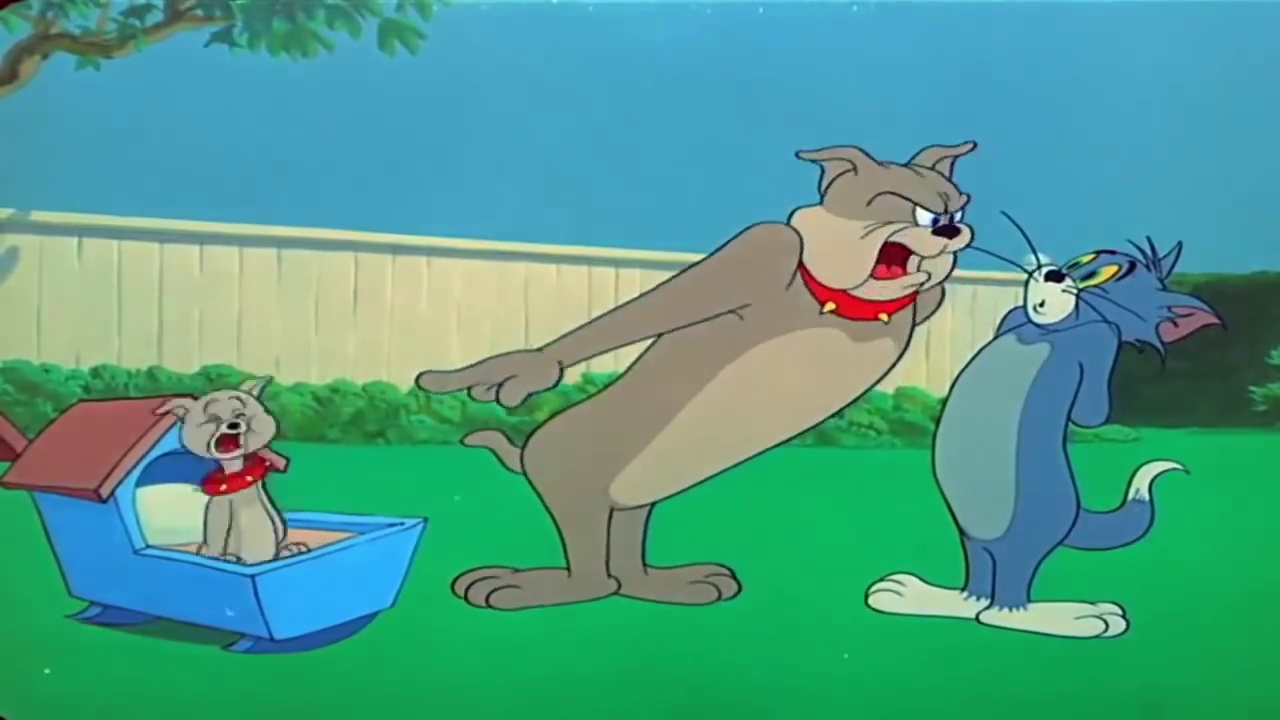spike: (785, 138, 986, 329)
tom: (1007, 234, 1230, 362)
